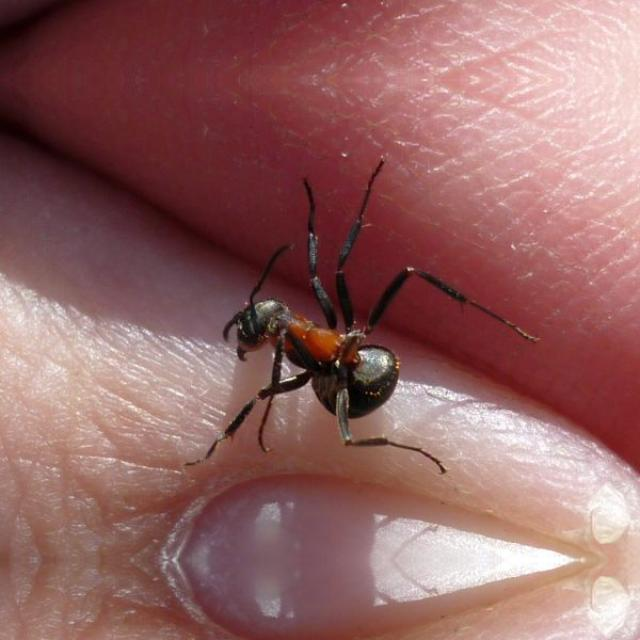Formica: (236, 264, 452, 442)
